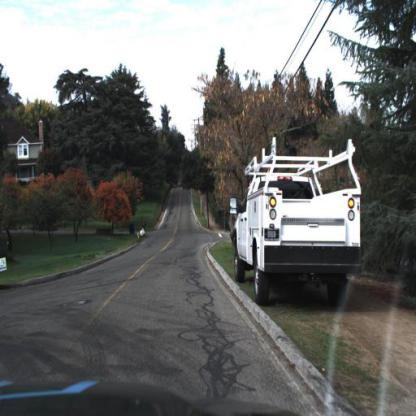car: (231, 134, 362, 307), (233, 144, 363, 306)
